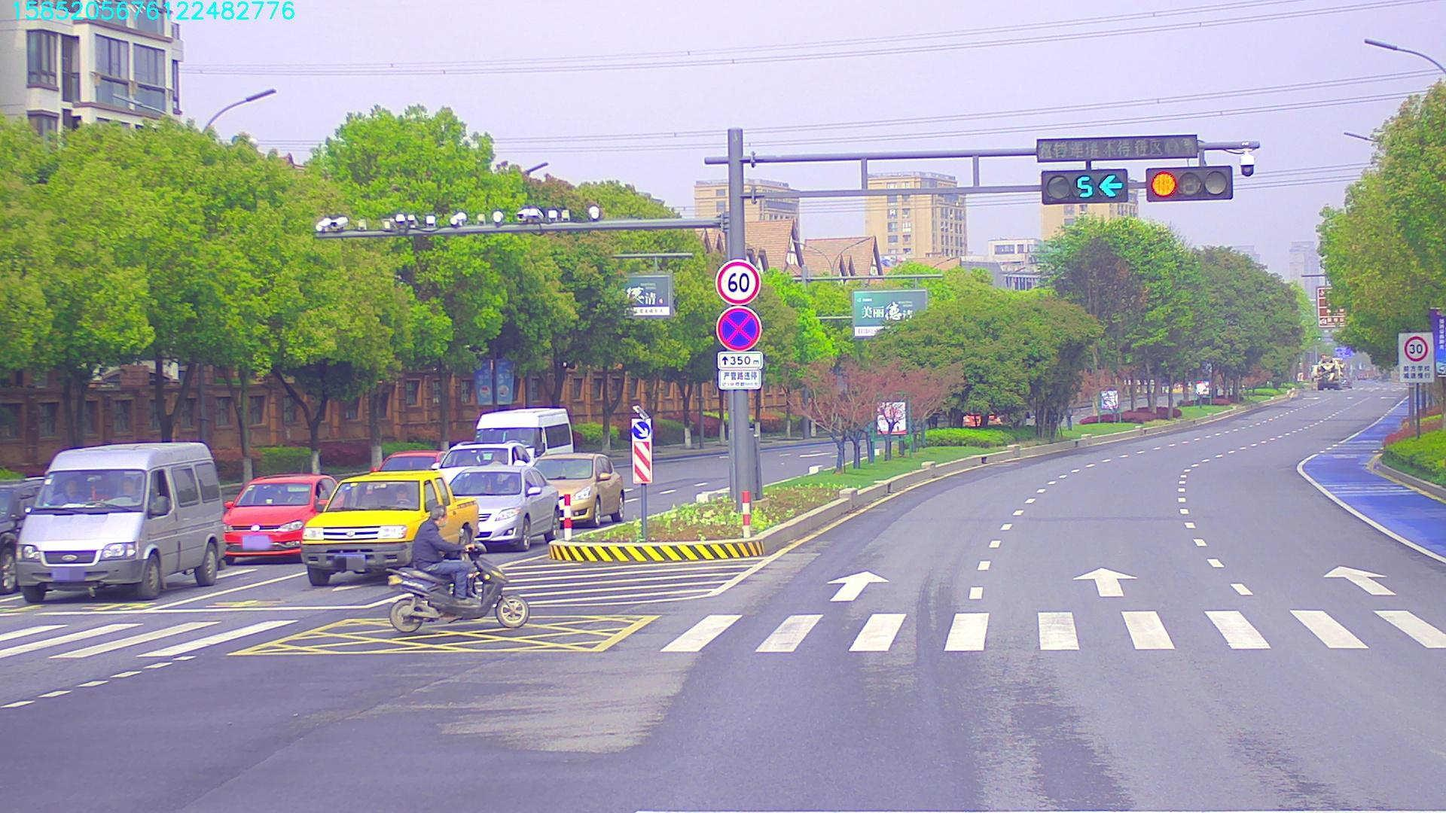green: (1042, 172, 1130, 202)
red: (1147, 167, 1234, 209)
